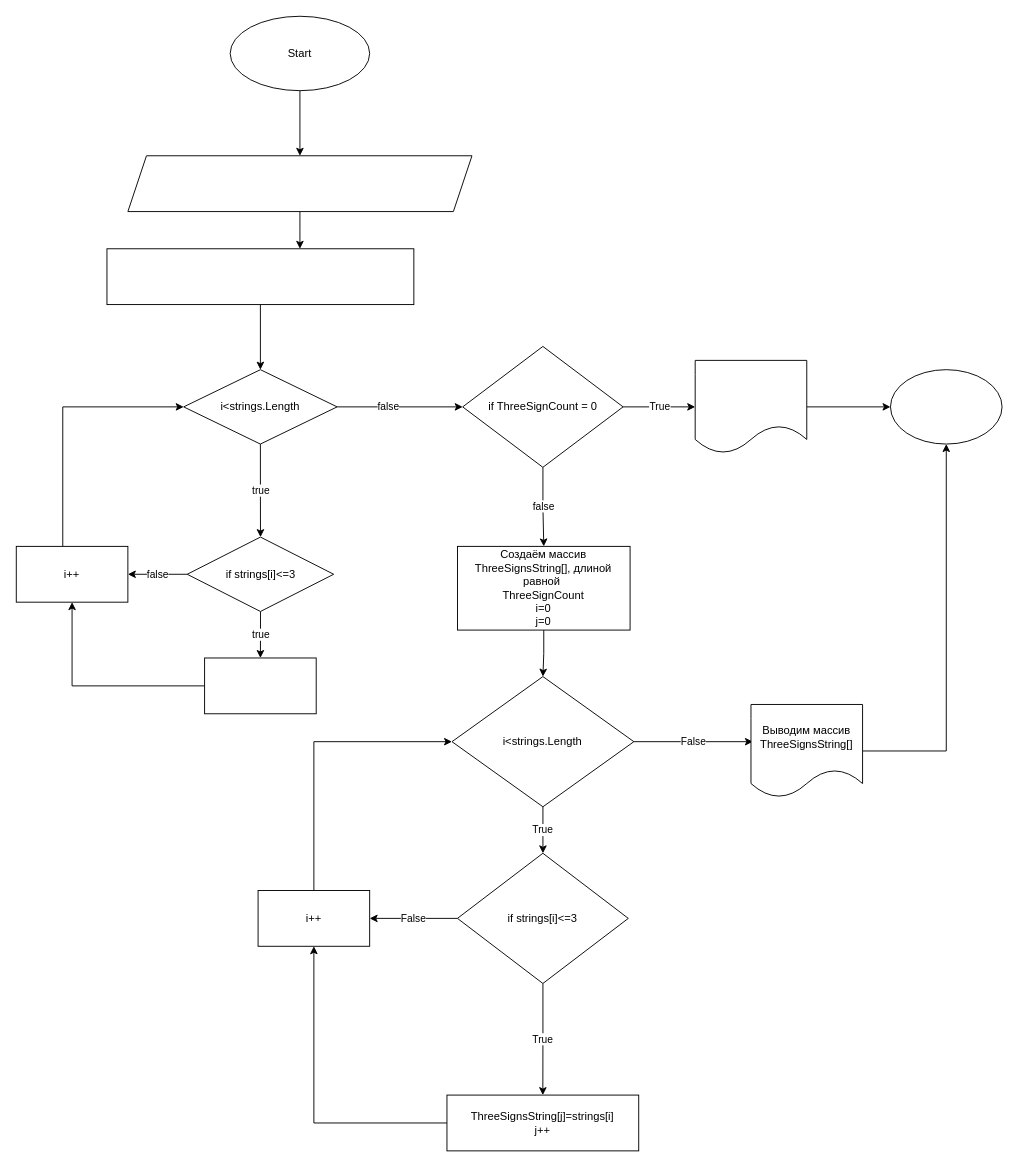
Some shapes in this 1018 by 1167 pixel diagram are drawn without their labels. The shapes that lost their labels are listed below. From the top down, each one's centre as x and y in pixels, then its label:
At pixel 299 183: "Пользователь вводит строчный массив strings[], состоящий из строк разной длины".
At pixel 260 276: "ThreeSignCount = 0; i=0;".
At pixel 750 406: "Сообщаем, что элементов искомой длины в заданном массиве нет".
At pixel 946 406: "Program End".
At pixel 260 685: "ThreeSignCount++".
